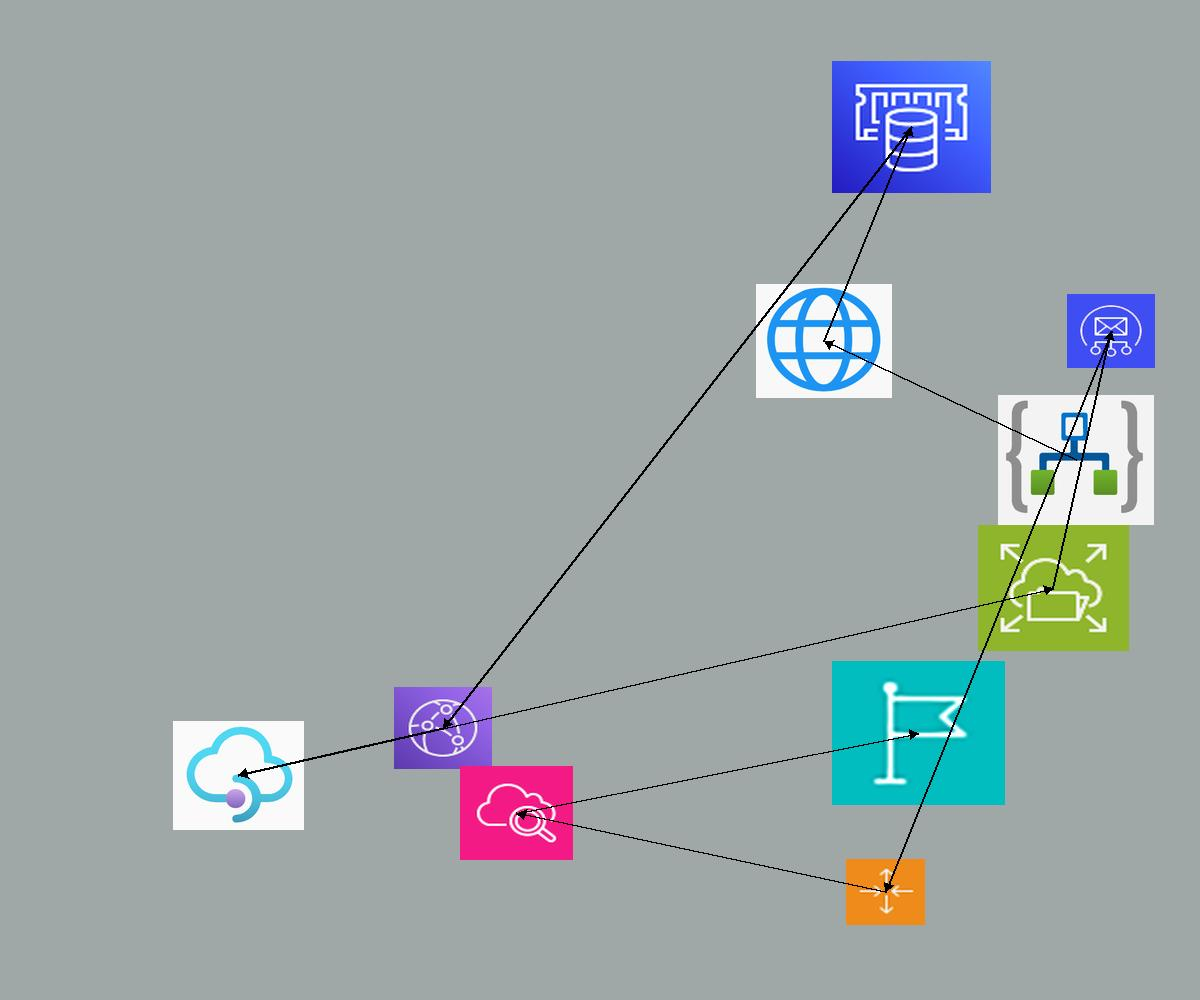AWS-CloudFront: (394, 687, 492, 769)
AWS-CloudWatch: (460, 766, 573, 860)
AWS-EFS: (978, 525, 1129, 651)
AWS-ElastiCache: (832, 61, 991, 193)
AWS-Region: (832, 661, 1005, 805)
AWS-Scaling-group: (846, 859, 925, 925)
AWS-Simple-Email-Service: (1067, 294, 1155, 368)
Azure_api_gateway: (173, 721, 304, 830)
Azure_http: (756, 284, 892, 398)
Azure_integration-204-Logic-Apps: (998, 395, 1154, 525)
